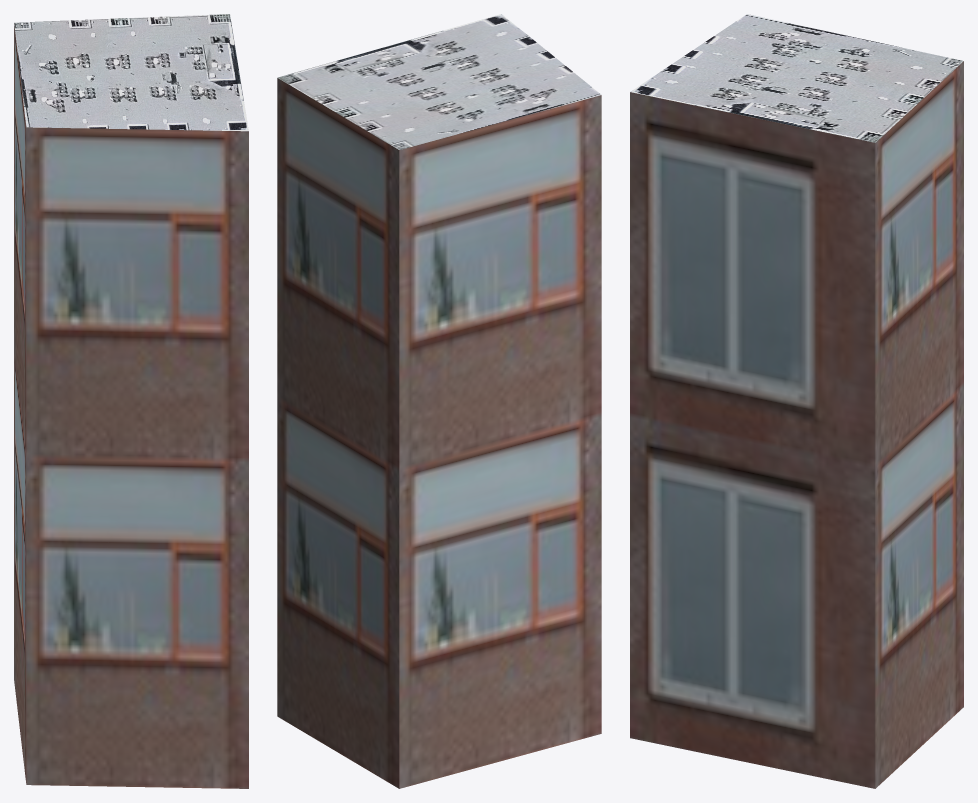
Rendered from ResTex__4060.fbx.
3 renders of one model, left to right at view 1: azimuth 30°, elevation 25°; view 2: azimuth 150°, elevation 25°; view 3: azimuth 270°, elevation 25°, orthographic. The views are drawn at different scales.
Visible parts, largest first — view 1: CityEngineMaterial_19_m, CityEngineMaterial_15_m; view 2: CityEngineMaterial_19_m, CityEngineMaterial_15_m; view 3: CityEngineMaterial_19_m, CityEngineMaterial_15_m.
Boxes of the visible parts, box(x1,y1,x2,y2) form: CityEngineMaterial_19_m: box(14, 23, 248, 788); CityEngineMaterial_15_m: box(14, 14, 248, 131); CityEngineMaterial_19_m: box(277, 78, 601, 788); CityEngineMaterial_15_m: box(277, 14, 601, 149); CityEngineMaterial_19_m: box(630, 61, 963, 788); CityEngineMaterial_15_m: box(630, 14, 963, 142).
Bounding box in the file's own units: 2.57 × 6 × 2.81.
2 materials, 2 textured.
